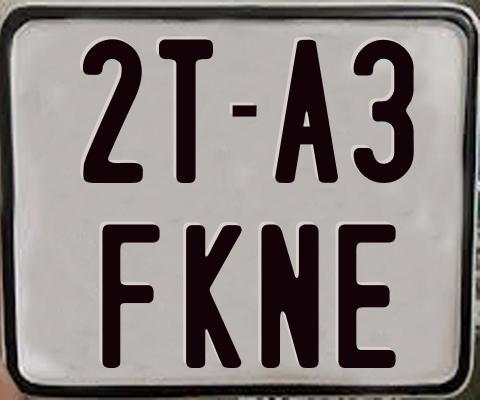2: (82, 39, 146, 186)
3: (352, 40, 412, 188)
A: (272, 37, 337, 183)
E: (337, 221, 397, 371)
F: (102, 221, 164, 366)
K: (183, 224, 242, 372)
N: (258, 221, 318, 370)
T: (159, 36, 218, 186)
